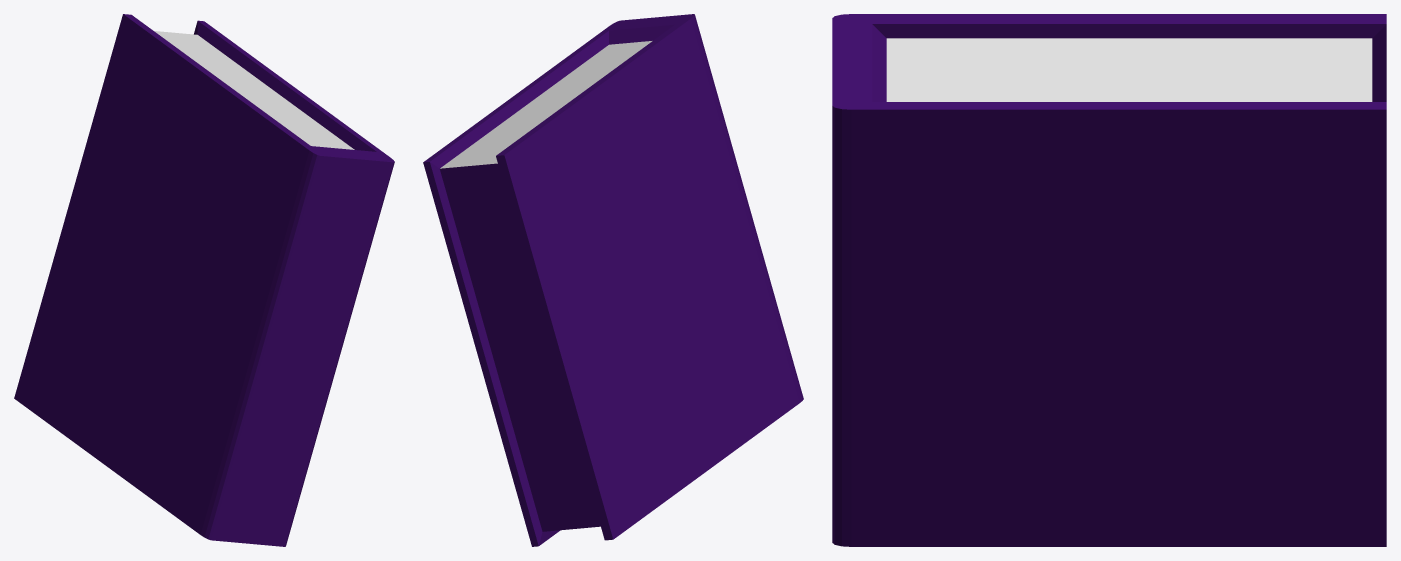
Rendered from Prop_Biblioteca_Libro5.fbx.
3 views of the same model, side by side, from view 1: azimuth 30°, elevation 25°; view 2: azimuth 150°, elevation 25°; view 3: azimuth 270°, elevation 25° (orthographic). The views are drawn at different scales.
Visible parts, largest first — view 1: Cube.003; view 2: Cube.003; view 3: Cube.003.
Part boxes in pixels (bbox=[...]): Cube.003: bbox=[14, 14, 394, 546]; Cube.003: bbox=[423, 14, 803, 546]; Cube.003: bbox=[832, 14, 1386, 546].
Size of the model in its own units: 260 by 502 by 457.
